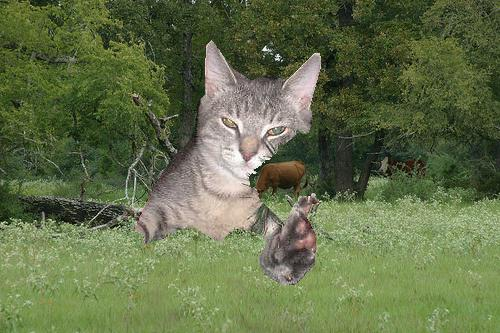tampered: (136, 41, 321, 285)
